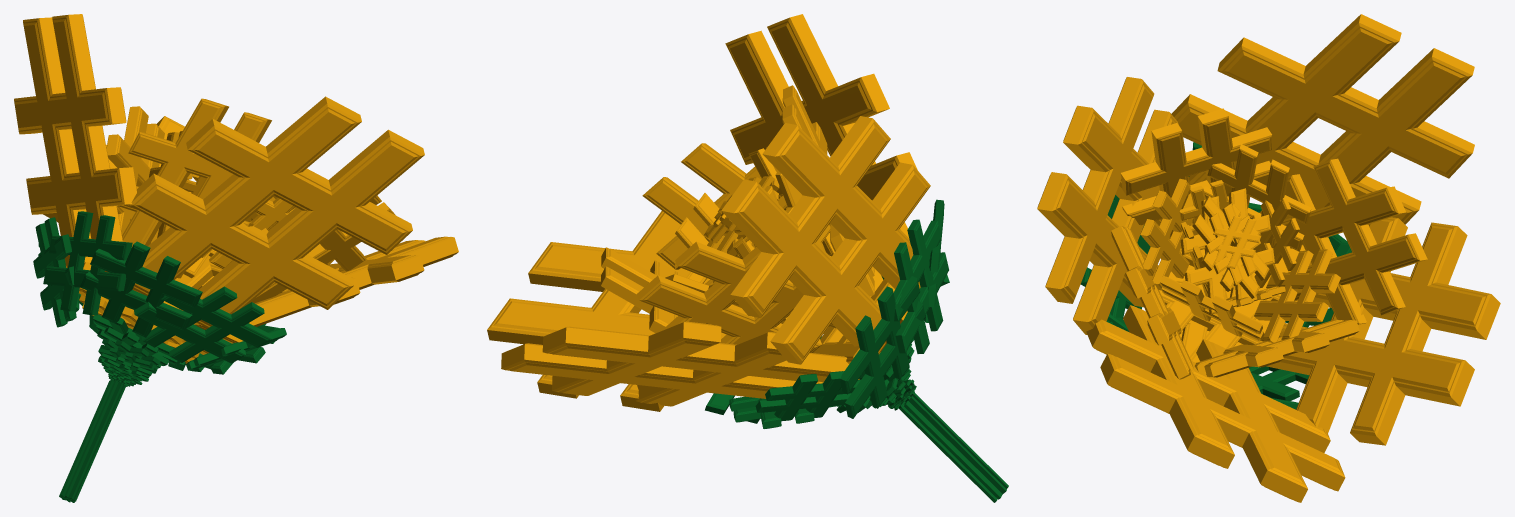
The model's file is 1614019830_flowerhash.gltf.
3 views of the same model, side by side, from view 1: azimuth 30°, elevation 25°; view 2: azimuth 150°, elevation 25°; view 3: azimuth 270°, elevation 25° (orthographic). The views are drawn at different scales.
Visible parts, largest first — view 1: Hash_Flower; view 2: Hash_Flower; view 3: Hash_Flower.
Boxes of the visible parts, x1,y1,x2,y2 form: Hash_Flower: (14, 14, 458, 502); Hash_Flower: (487, 14, 1008, 502); Hash_Flower: (1037, 14, 1500, 502).
Size of the model in its own units: 0.0547 by 0.0497 by 0.0487.
